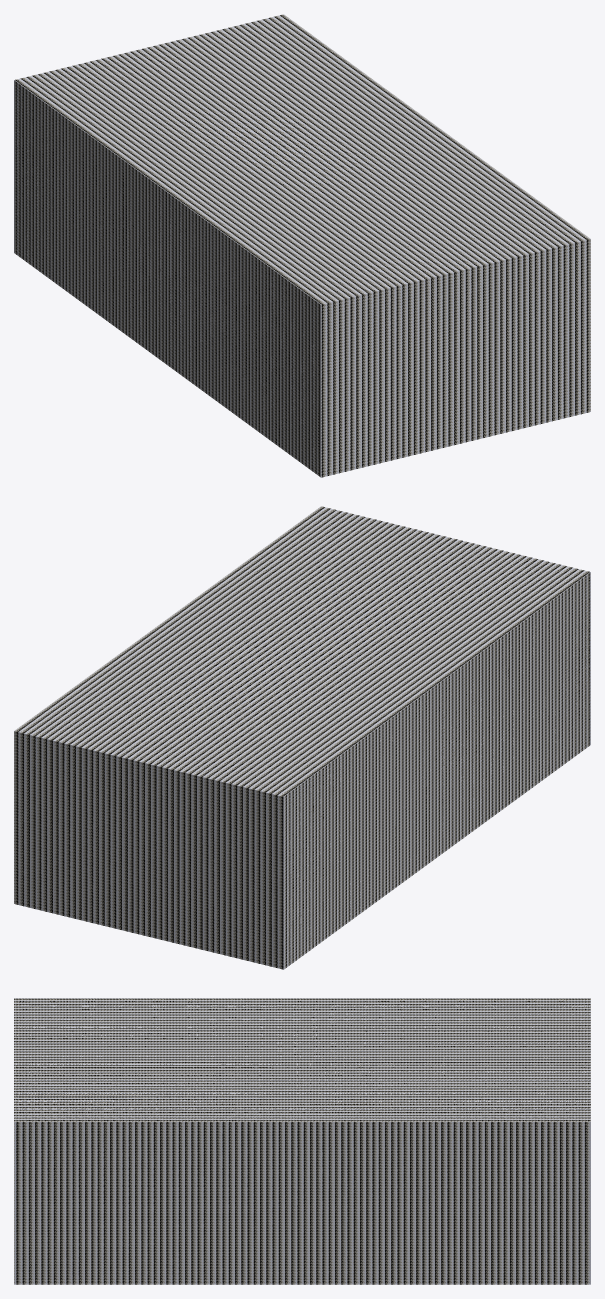
The model's file is Desert_brush.glb.
3 views of the same model, one above another, from view 1: azimuth 30°, elevation 25°; view 2: azimuth 150°, elevation 25°; view 3: azimuth 270°, elevation 25° (orthographic). The views are drawn at different scales.
Visible parts, largest first — view 1: Desert; view 2: Desert; view 3: Desert.
Boxes of the visible parts, left/top/right/bottom form: Desert: left=14, top=14, right=590, bottom=477; Desert: left=14, top=506, right=590, bottom=969; Desert: left=14, top=998, right=590, bottom=1284.
Size of the model in its own units: 11992 by 7341 by 23644.
Materials: 2 (2 with a texture image).
